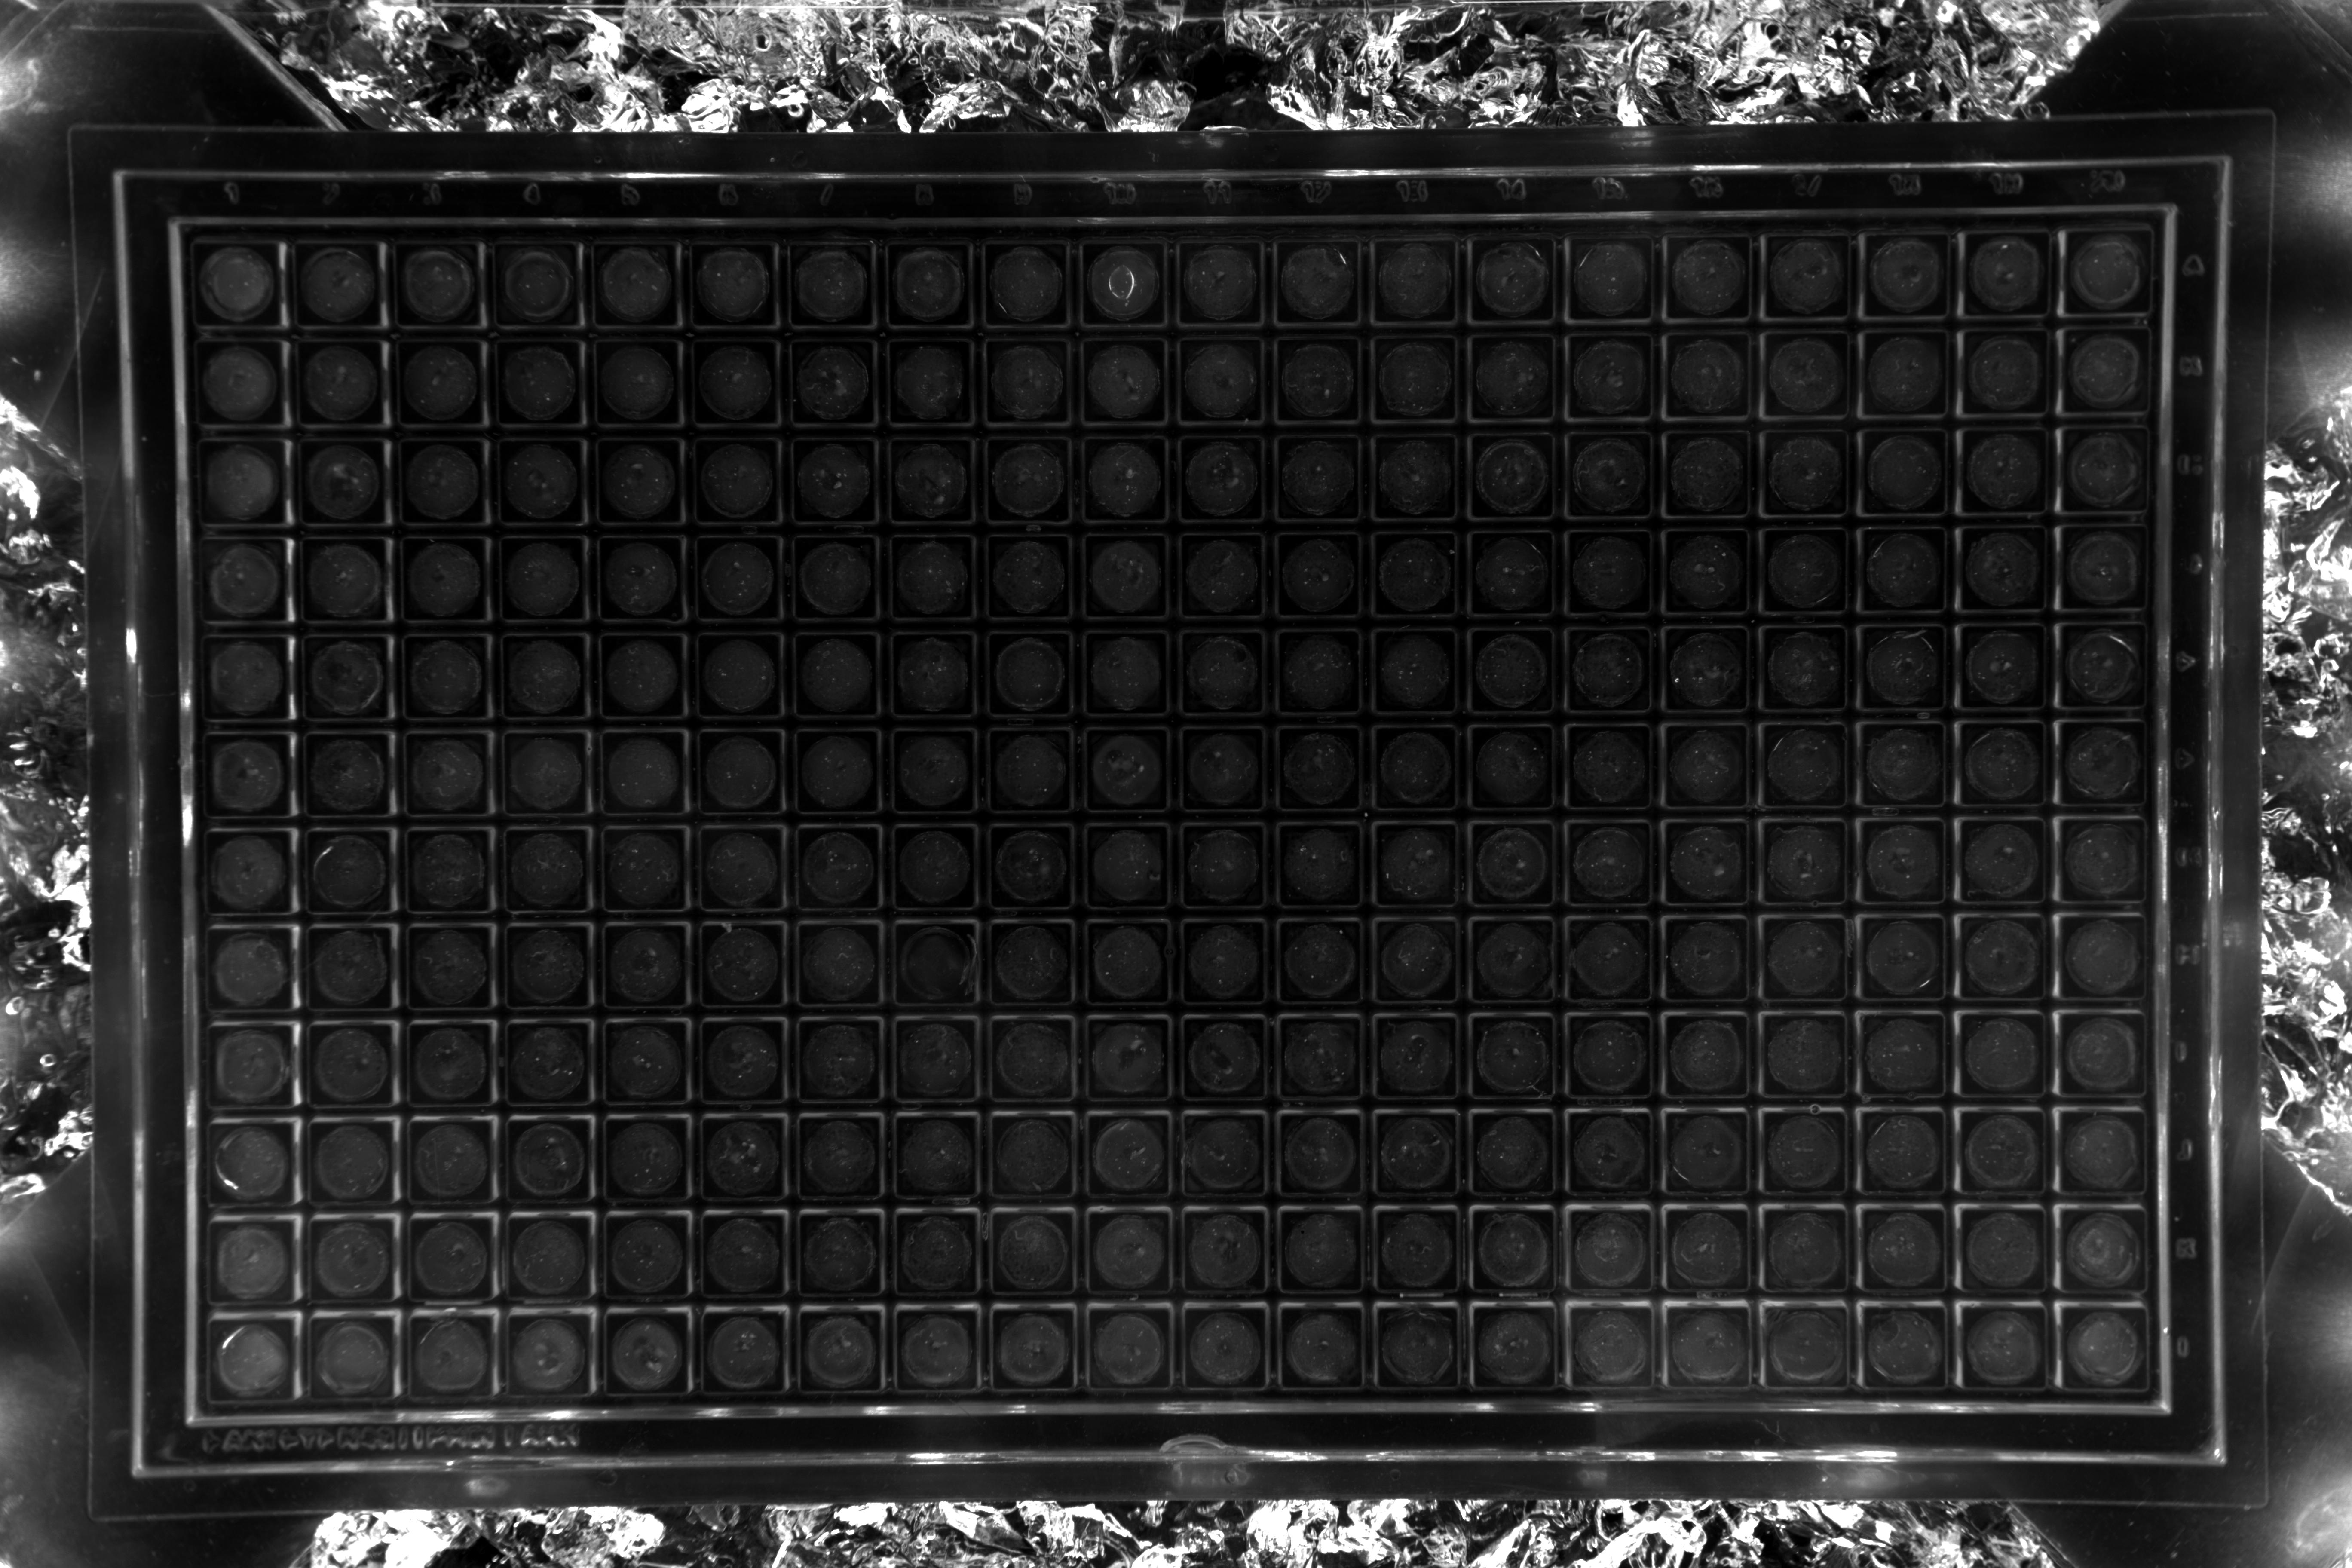WM_well: (201, 635, 290, 723), (203, 829, 292, 917), (297, 535, 387, 623), (299, 633, 388, 721), (395, 535, 485, 623), (397, 633, 486, 721), (399, 828, 488, 915), (492, 436, 581, 523), (493, 535, 583, 623), (495, 633, 584, 721), (497, 828, 586, 915), (497, 924, 586, 1011), (497, 1118, 586, 1206), (497, 1214, 586, 1302), (588, 338, 677, 425), (590, 436, 679, 523), (591, 534, 681, 621), (595, 1020, 684, 1108), (688, 436, 777, 523), (689, 534, 779, 621), (691, 728, 780, 815), (786, 436, 875, 523), (789, 922, 878, 1010), (789, 1018, 878, 1106), (789, 1115, 878, 1202), (789, 1213, 878, 1300), (885, 630, 975, 717), (980, 338, 1069, 425), (982, 534, 1071, 621), (1176, 1209, 1263, 1298), (1176, 630, 1265, 717), (1272, 1209, 1360, 1298), (1368, 1209, 1456, 1298), (1666, 135, 1755, 222), (1862, 429, 1951, 516), (1864, 231, 1953, 318), (2061, 327, 2151, 415), (2063, 128, 2152, 215), (191, 138, 278, 226), (192, 236, 280, 324), (194, 336, 282, 423), (198, 436, 285, 523), (199, 535, 287, 623), (203, 731, 290, 819), (205, 926, 292, 1013), (205, 1218, 292, 1305), (205, 1024, 292, 1111), (205, 1120, 292, 1207), (289, 138, 376, 226), (290, 238, 378, 325), (294, 338, 381, 425), (296, 436, 383, 523), (301, 731, 388, 819), (303, 829, 390, 917), (303, 926, 390, 1013), (303, 1216, 390, 1304), (303, 1022, 390, 1109), (303, 1120, 390, 1207), (388, 138, 476, 226), (390, 238, 478, 325), (392, 338, 479, 425), (394, 436, 481, 523), (399, 731, 486, 819), (401, 926, 488, 1013), (401, 1022, 488, 1109), (401, 1118, 488, 1206), (401, 1216, 488, 1304), (486, 140, 574, 227), (488, 238, 576, 325), (490, 338, 577, 425), (497, 730, 584, 817), (499, 1020, 586, 1108), (586, 140, 674, 227), (588, 240, 675, 327), (593, 632, 681, 719), (595, 730, 682, 817), (595, 826, 682, 913), (595, 924, 682, 1011), (595, 1116, 682, 1204), (595, 1214, 682, 1302), (684, 142, 772, 229), (686, 240, 773, 327), (688, 338, 775, 425), (691, 632, 779, 719), (693, 826, 780, 913), (693, 922, 780, 1010), (693, 1018, 780, 1106), (693, 1116, 780, 1204), (693, 1213, 780, 1300), (782, 142, 870, 229), (784, 240, 871, 327), (786, 338, 873, 425), (787, 534, 875, 621), (789, 632, 877, 719), (789, 728, 877, 815), (789, 824, 877, 912), (882, 142, 969, 229), (882, 241, 969, 329), (884, 338, 971, 425), (884, 436, 971, 523), (885, 534, 973, 621), (887, 728, 975, 815), (887, 824, 975, 912), (887, 920, 975, 1008), (887, 1018, 975, 1106), (887, 1115, 975, 1202), (887, 1211, 975, 1298), (980, 142, 1067, 229), (980, 241, 1067, 329), (982, 436, 1069, 523), (983, 630, 1071, 717), (983, 726, 1071, 814), (983, 824, 1071, 912), (983, 920, 1071, 1008), (983, 1017, 1071, 1104), (983, 1113, 1071, 1200), (983, 1211, 1071, 1298), (1078, 142, 1165, 229), (1078, 241, 1165, 329), (1078, 338, 1165, 425), (1080, 436, 1167, 523), (1080, 532, 1167, 619), (1080, 920, 1167, 1008), (1080, 1017, 1167, 1104), (1080, 630, 1167, 717), (1080, 726, 1167, 814), (1080, 824, 1167, 912), (1080, 1113, 1167, 1200), (1080, 1211, 1167, 1298), (1176, 142, 1263, 229), (1176, 240, 1263, 327), (1176, 338, 1263, 425), (1176, 1017, 1263, 1104), (1176, 1113, 1263, 1200), (1176, 436, 1263, 523), (1176, 532, 1263, 619), (1176, 726, 1263, 814), (1176, 822, 1263, 910), (1176, 920, 1263, 1008), (1272, 1113, 1360, 1200), (1272, 1017, 1360, 1104), (1272, 822, 1360, 910), (1272, 920, 1360, 1008), (1274, 140, 1361, 227), (1274, 532, 1361, 619), (1274, 630, 1361, 717), (1274, 726, 1361, 814), (1274, 240, 1361, 327), (1274, 338, 1361, 425), (1274, 436, 1361, 523), (1368, 1113, 1456, 1200), (1368, 1017, 1456, 1104), (1368, 920, 1456, 1008), (1370, 630, 1458, 717), (1370, 726, 1458, 814), (1370, 822, 1458, 910), (1370, 532, 1458, 619), (1370, 434, 1458, 521), (1372, 138, 1459, 226), (1372, 238, 1459, 325), (1372, 336, 1459, 423), (1465, 1211, 1552, 1298), (1465, 1113, 1552, 1200), (1465, 1017, 1552, 1104), (1466, 920, 1554, 1008), (1466, 630, 1554, 717), (1466, 726, 1554, 814), (1466, 822, 1554, 910), (1468, 532, 1556, 619), (1468, 434, 1556, 521), (1468, 334, 1556, 422), (1470, 138, 1557, 226), (1470, 236, 1557, 324), (1561, 1211, 1648, 1298), (1563, 1113, 1650, 1200), (1563, 1017, 1650, 1104), (1563, 920, 1650, 1008), (1564, 822, 1652, 910), (1564, 726, 1652, 814), (1564, 628, 1652, 716), (1566, 530, 1654, 618), (1566, 432, 1654, 520), (1568, 334, 1655, 422), (1568, 136, 1655, 224), (1568, 234, 1655, 322), (1659, 1211, 1746, 1298), (1661, 1115, 1748, 1202), (1661, 1017, 1748, 1104), (1661, 920, 1748, 1008), (1662, 822, 1750, 910), (1662, 726, 1750, 814), (1662, 628, 1750, 716), (1664, 530, 1752, 618), (1664, 432, 1752, 520), (1666, 332, 1753, 420), (1666, 233, 1753, 320), (1759, 1211, 1846, 1298), (1759, 1115, 1846, 1202), (1759, 1017, 1846, 1104), (1760, 920, 1848, 1008), (1760, 822, 1848, 910), (1760, 724, 1848, 812), (1762, 628, 1850, 716), (1762, 528, 1850, 616), (1764, 430, 1851, 518), (1764, 331, 1851, 418), (1766, 231, 1853, 318), (1766, 133, 1853, 220), (1857, 1115, 1944, 1202), (1857, 1213, 1944, 1300), (1858, 1017, 1946, 1104), (1858, 920, 1946, 1008), (1858, 822, 1946, 910), (1860, 724, 1948, 812), (1860, 626, 1948, 714), (1862, 528, 1949, 616), (1864, 329, 1951, 416), (1865, 131, 1953, 219), (1956, 1115, 2044, 1202), (1956, 1213, 2044, 1300), (1956, 1017, 2044, 1104), (1956, 919, 2044, 1006), (1958, 822, 2046, 910), (1960, 724, 2047, 812), (1960, 625, 2047, 712), (1962, 527, 2049, 614), (1962, 427, 2049, 514), (1963, 329, 2051, 416), (1963, 229, 2051, 317), (1965, 129, 2053, 217), (2054, 1213, 2142, 1300), (2054, 1115, 2142, 1202), (2056, 1017, 2144, 1104), (2056, 919, 2144, 1006), (2058, 821, 2145, 908), (2058, 723, 2145, 810), (2060, 625, 2147, 712), (2060, 525, 2147, 612), (2061, 427, 2149, 514), (2063, 227, 2151, 315)
